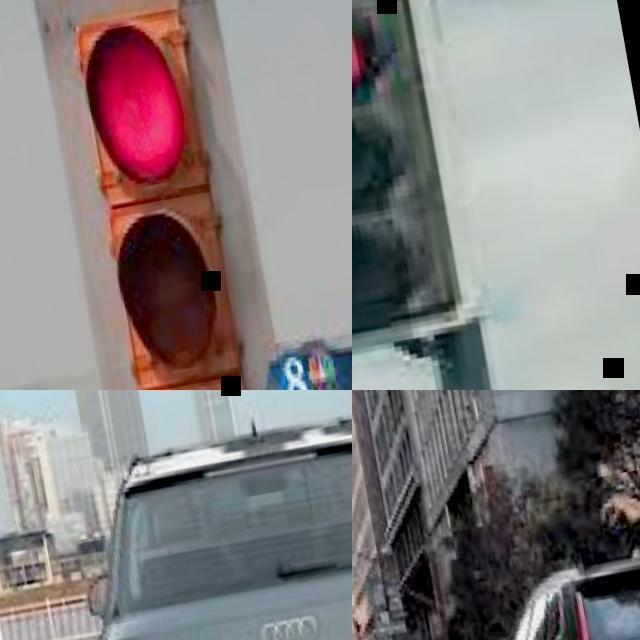car: (520, 554, 639, 639)
